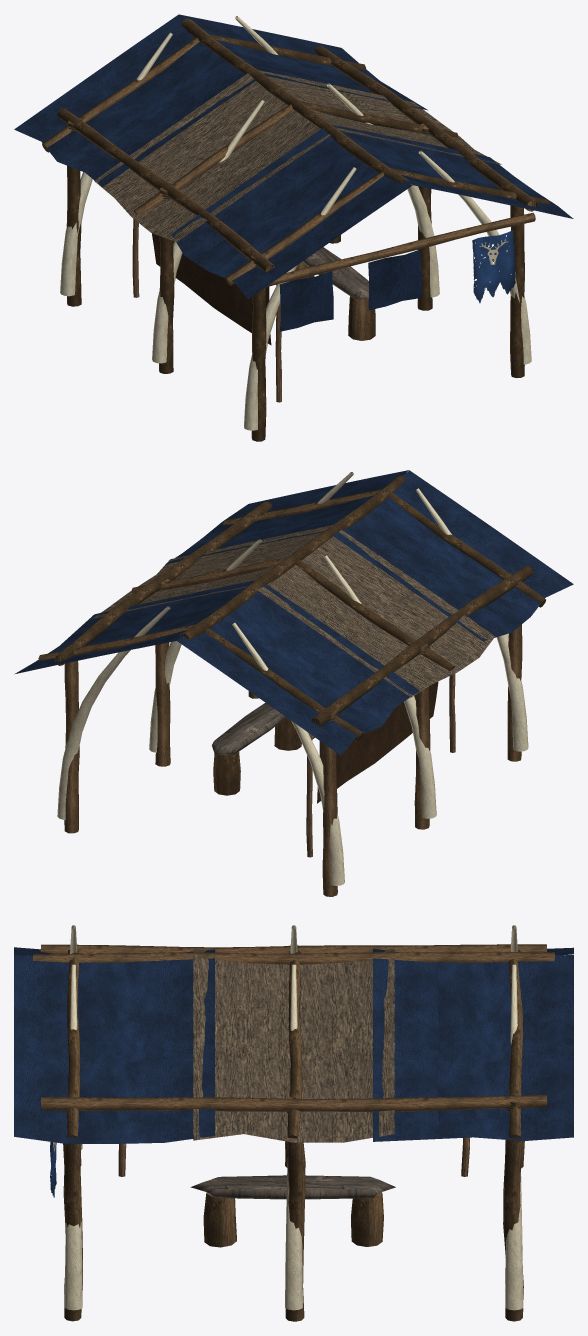
Rendered from SM_Bld_North_Canopy.gltf.
The picture shows the model from 3 angles, top to bottom: view 1: azimuth 30°, elevation 25°; view 2: azimuth 150°, elevation 25°; view 3: azimuth 270°, elevation 25°; orthographic projection. The views are drawn at different scales.
Parts seen in each view (by area): view 1: SM_Bld_North_Canopy; view 2: SM_Bld_North_Canopy; view 3: SM_Bld_North_Canopy.
Boxes of the visible parts, <box> form: SM_Bld_North_Canopy: <box>14,14,573,441</box>; SM_Bld_North_Canopy: <box>14,470,573,896</box>; SM_Bld_North_Canopy: <box>14,925,573,1321</box>.
Bounding box in the file's own units: 5.63 × 4.02 × 6.86.
Materials: 9 (9 with a texture image).
